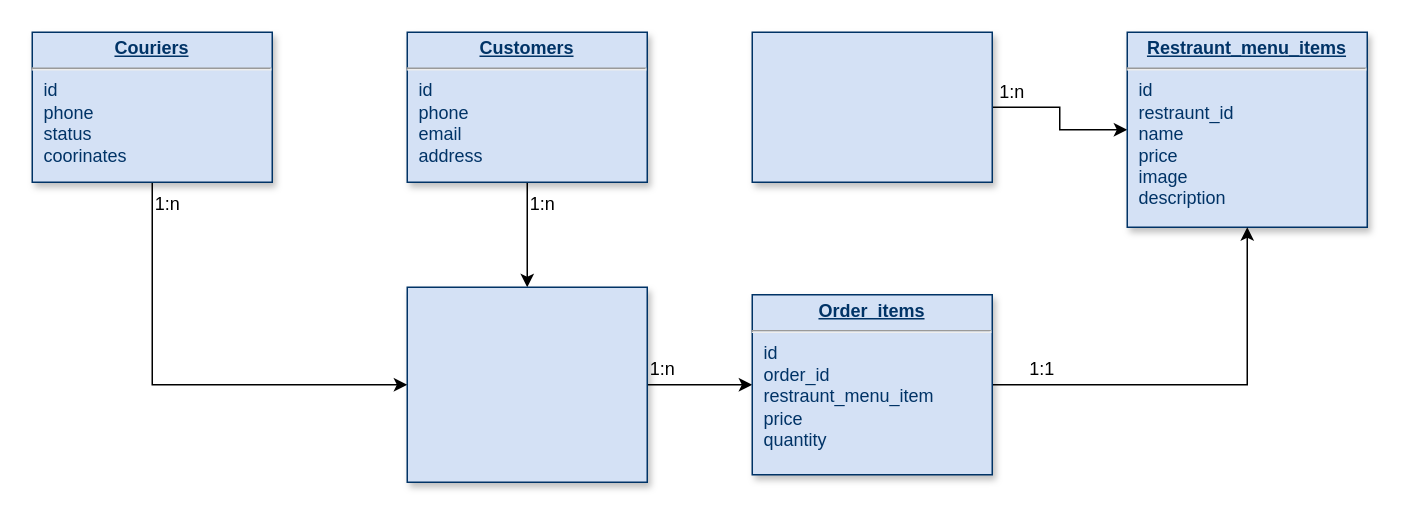
Some shapes in this 1403 by 519 pixel diagram are drawn without their labels. The centre of each missing label's shape, as x and y in pixels:
Orders id customer_id restraunt_id status courier_id (NULL) timestamp: the point at 528,386
Restaurants id address status: the point at 873,109
